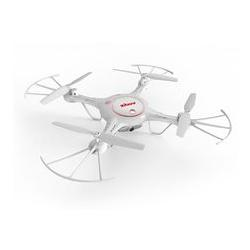drone: (24, 63, 233, 184)
